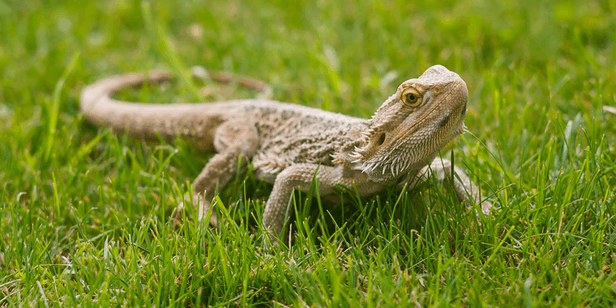bearded: (72, 54, 495, 264)
